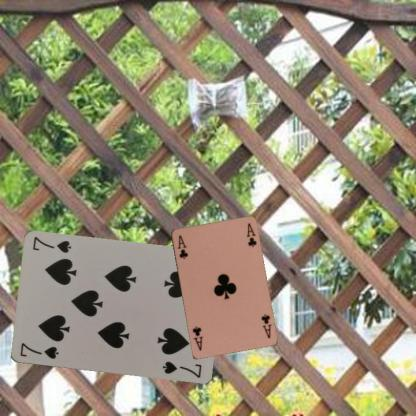7s: (18, 340, 60, 360)
Ac: (258, 311, 273, 340), (174, 232, 189, 260)
